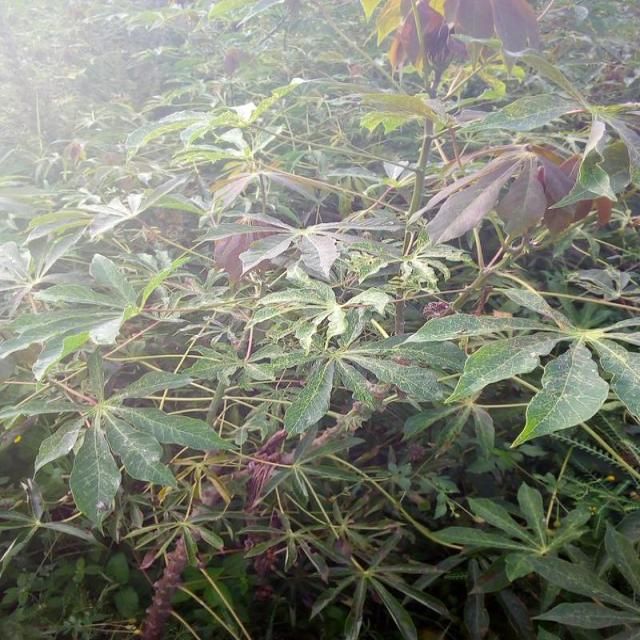cassava leaf: (509, 340, 609, 449)
